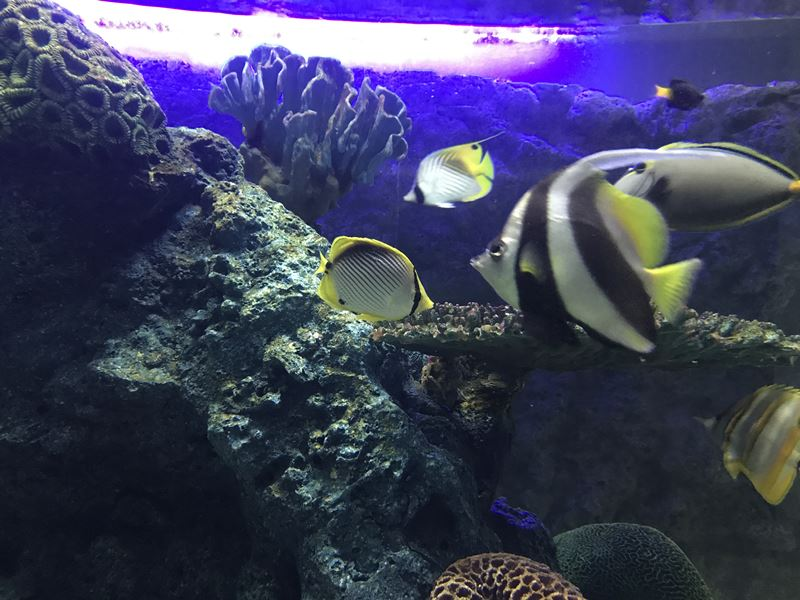Black-backed butterflyfish: (303, 230, 442, 332)
